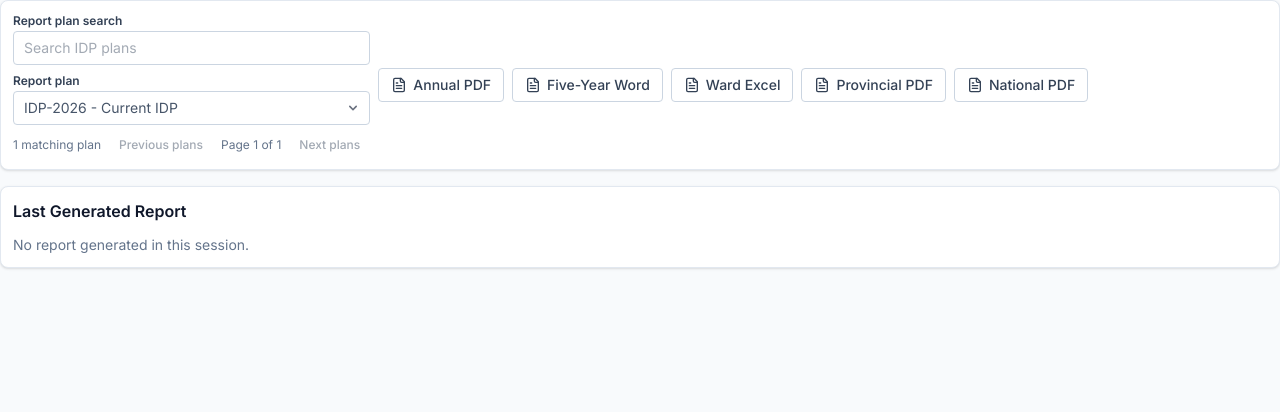
Test: IDP plan lineage workspace › downloads generated IDP reports from the governed Base64 document contract
The width and height of the screenshot is (1280, 412).
Click the button "Annual PDF".
click(441, 85)  # box 378,68 -> 504,102
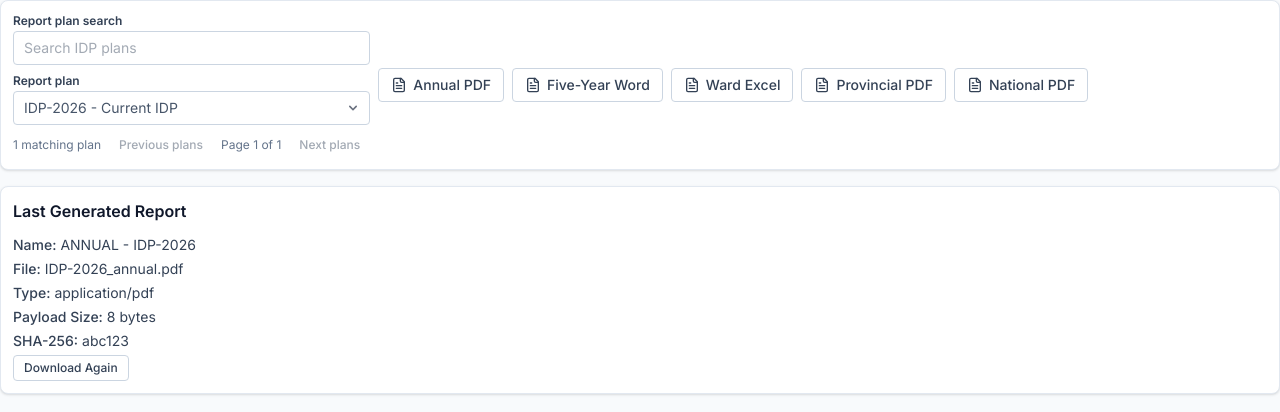
Expected: the text "IDP-2026_annual.pdf" is shown, 45,260 -> 184,277
Expected: the text "abc123" is shown, 82,332 -> 129,349
